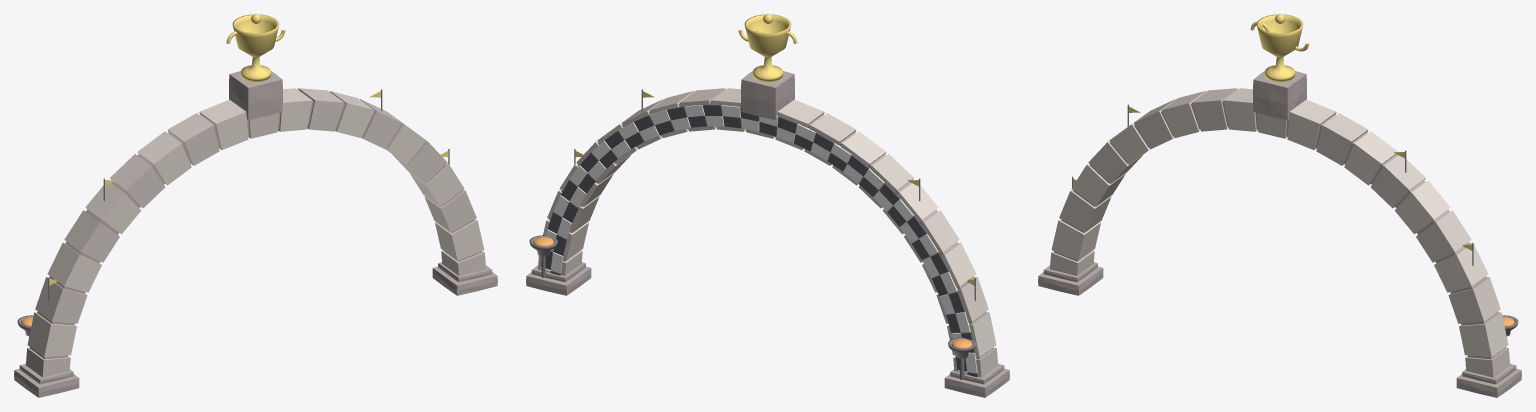
The model's file is SkateFinishArch.glb.
The picture shows the model from 3 angles, left to right: view 1: azimuth 30°, elevation 25°; view 2: azimuth 150°, elevation 25°; view 3: azimuth 330°, elevation 25°; orthographic projection.
Visible parts, largest first — view 1: StoneB, Stone, Trim, Gold; view 2: StoneB, Stone, Light, Dark, Trim, Gold, Bowl; view 3: StoneB, Stone, Trim, Gold.
Boxes of the visible parts, x1,y1,x2,y2 form: StoneB: (27, 88, 484, 357); Stone: (26, 88, 485, 377); Trim: (14, 71, 497, 397); Gold: (226, 14, 285, 82); StoneB: (543, 88, 996, 357); Stone: (538, 88, 997, 377); Light: (540, 105, 977, 374); Dark: (541, 104, 977, 377); Trim: (526, 71, 1009, 397); Gold: (738, 14, 797, 82); Bowl: (529, 235, 976, 358); StoneB: (1051, 88, 1508, 357); Stone: (1050, 88, 1509, 377); Trim: (1038, 71, 1521, 397); Gold: (1250, 14, 1309, 82).
Bounding box in the file's own units: 127 × 84.2 × 16.55.
